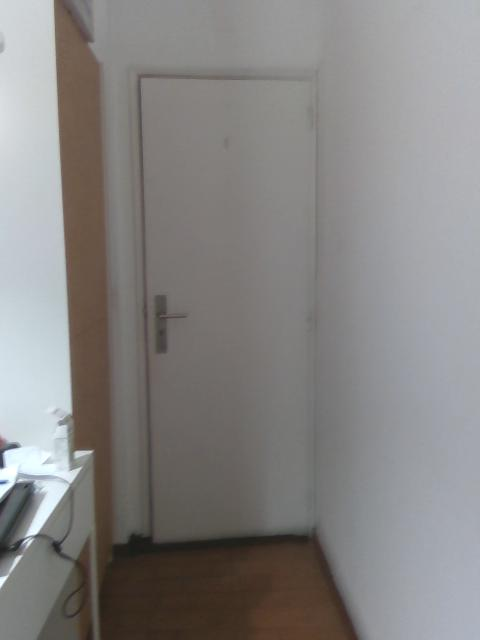closed_door: (128, 67, 318, 537)
